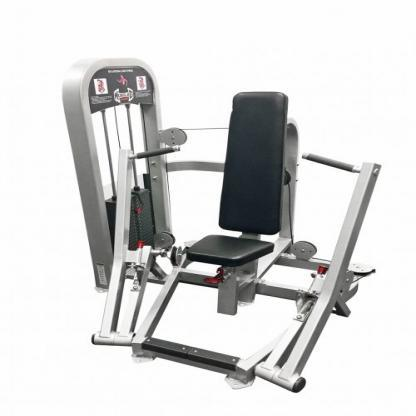Chest Press machine: (56, 53, 394, 399)
